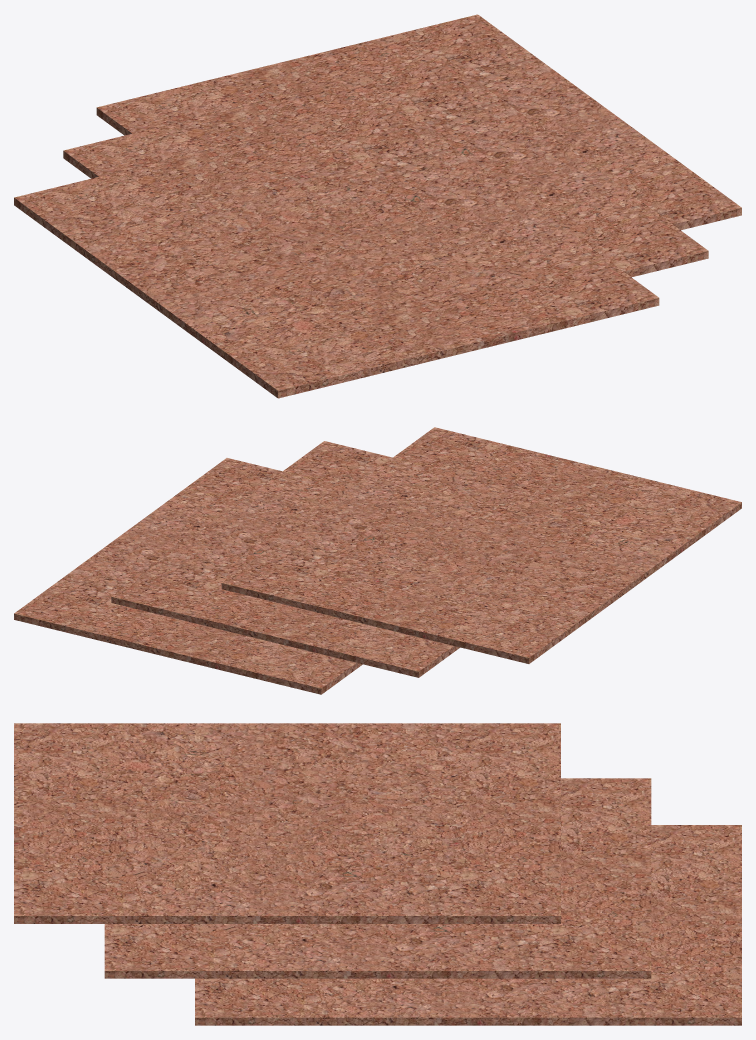
3 views of the same model, one above another, from view 1: azimuth 30°, elevation 25°; view 2: azimuth 150°, elevation 25°; view 3: azimuth 270°, elevation 25° (orthographic). The views are drawn at different scales.
Parts seen in each view (by area): view 1: group_2, group_1, group_0; view 2: group_2, group_1, group_0; view 3: group_2, group_1, group_0.
Part boxes in pixels (box(x1,y1,x2,y2)): group_2: box(14, 104, 659, 398); group_1: box(63, 57, 708, 277); group_0: box(96, 14, 741, 230); group_2: box(221, 427, 741, 663); group_1: box(111, 441, 459, 677); group_0: box(14, 458, 362, 694); group_2: box(14, 723, 560, 923); group_1: box(104, 778, 651, 978); group_0: box(195, 825, 741, 1025).
Size of the model in its own units: 1.5 by 0.06 by 1.66.
1 material, 1 textured.
